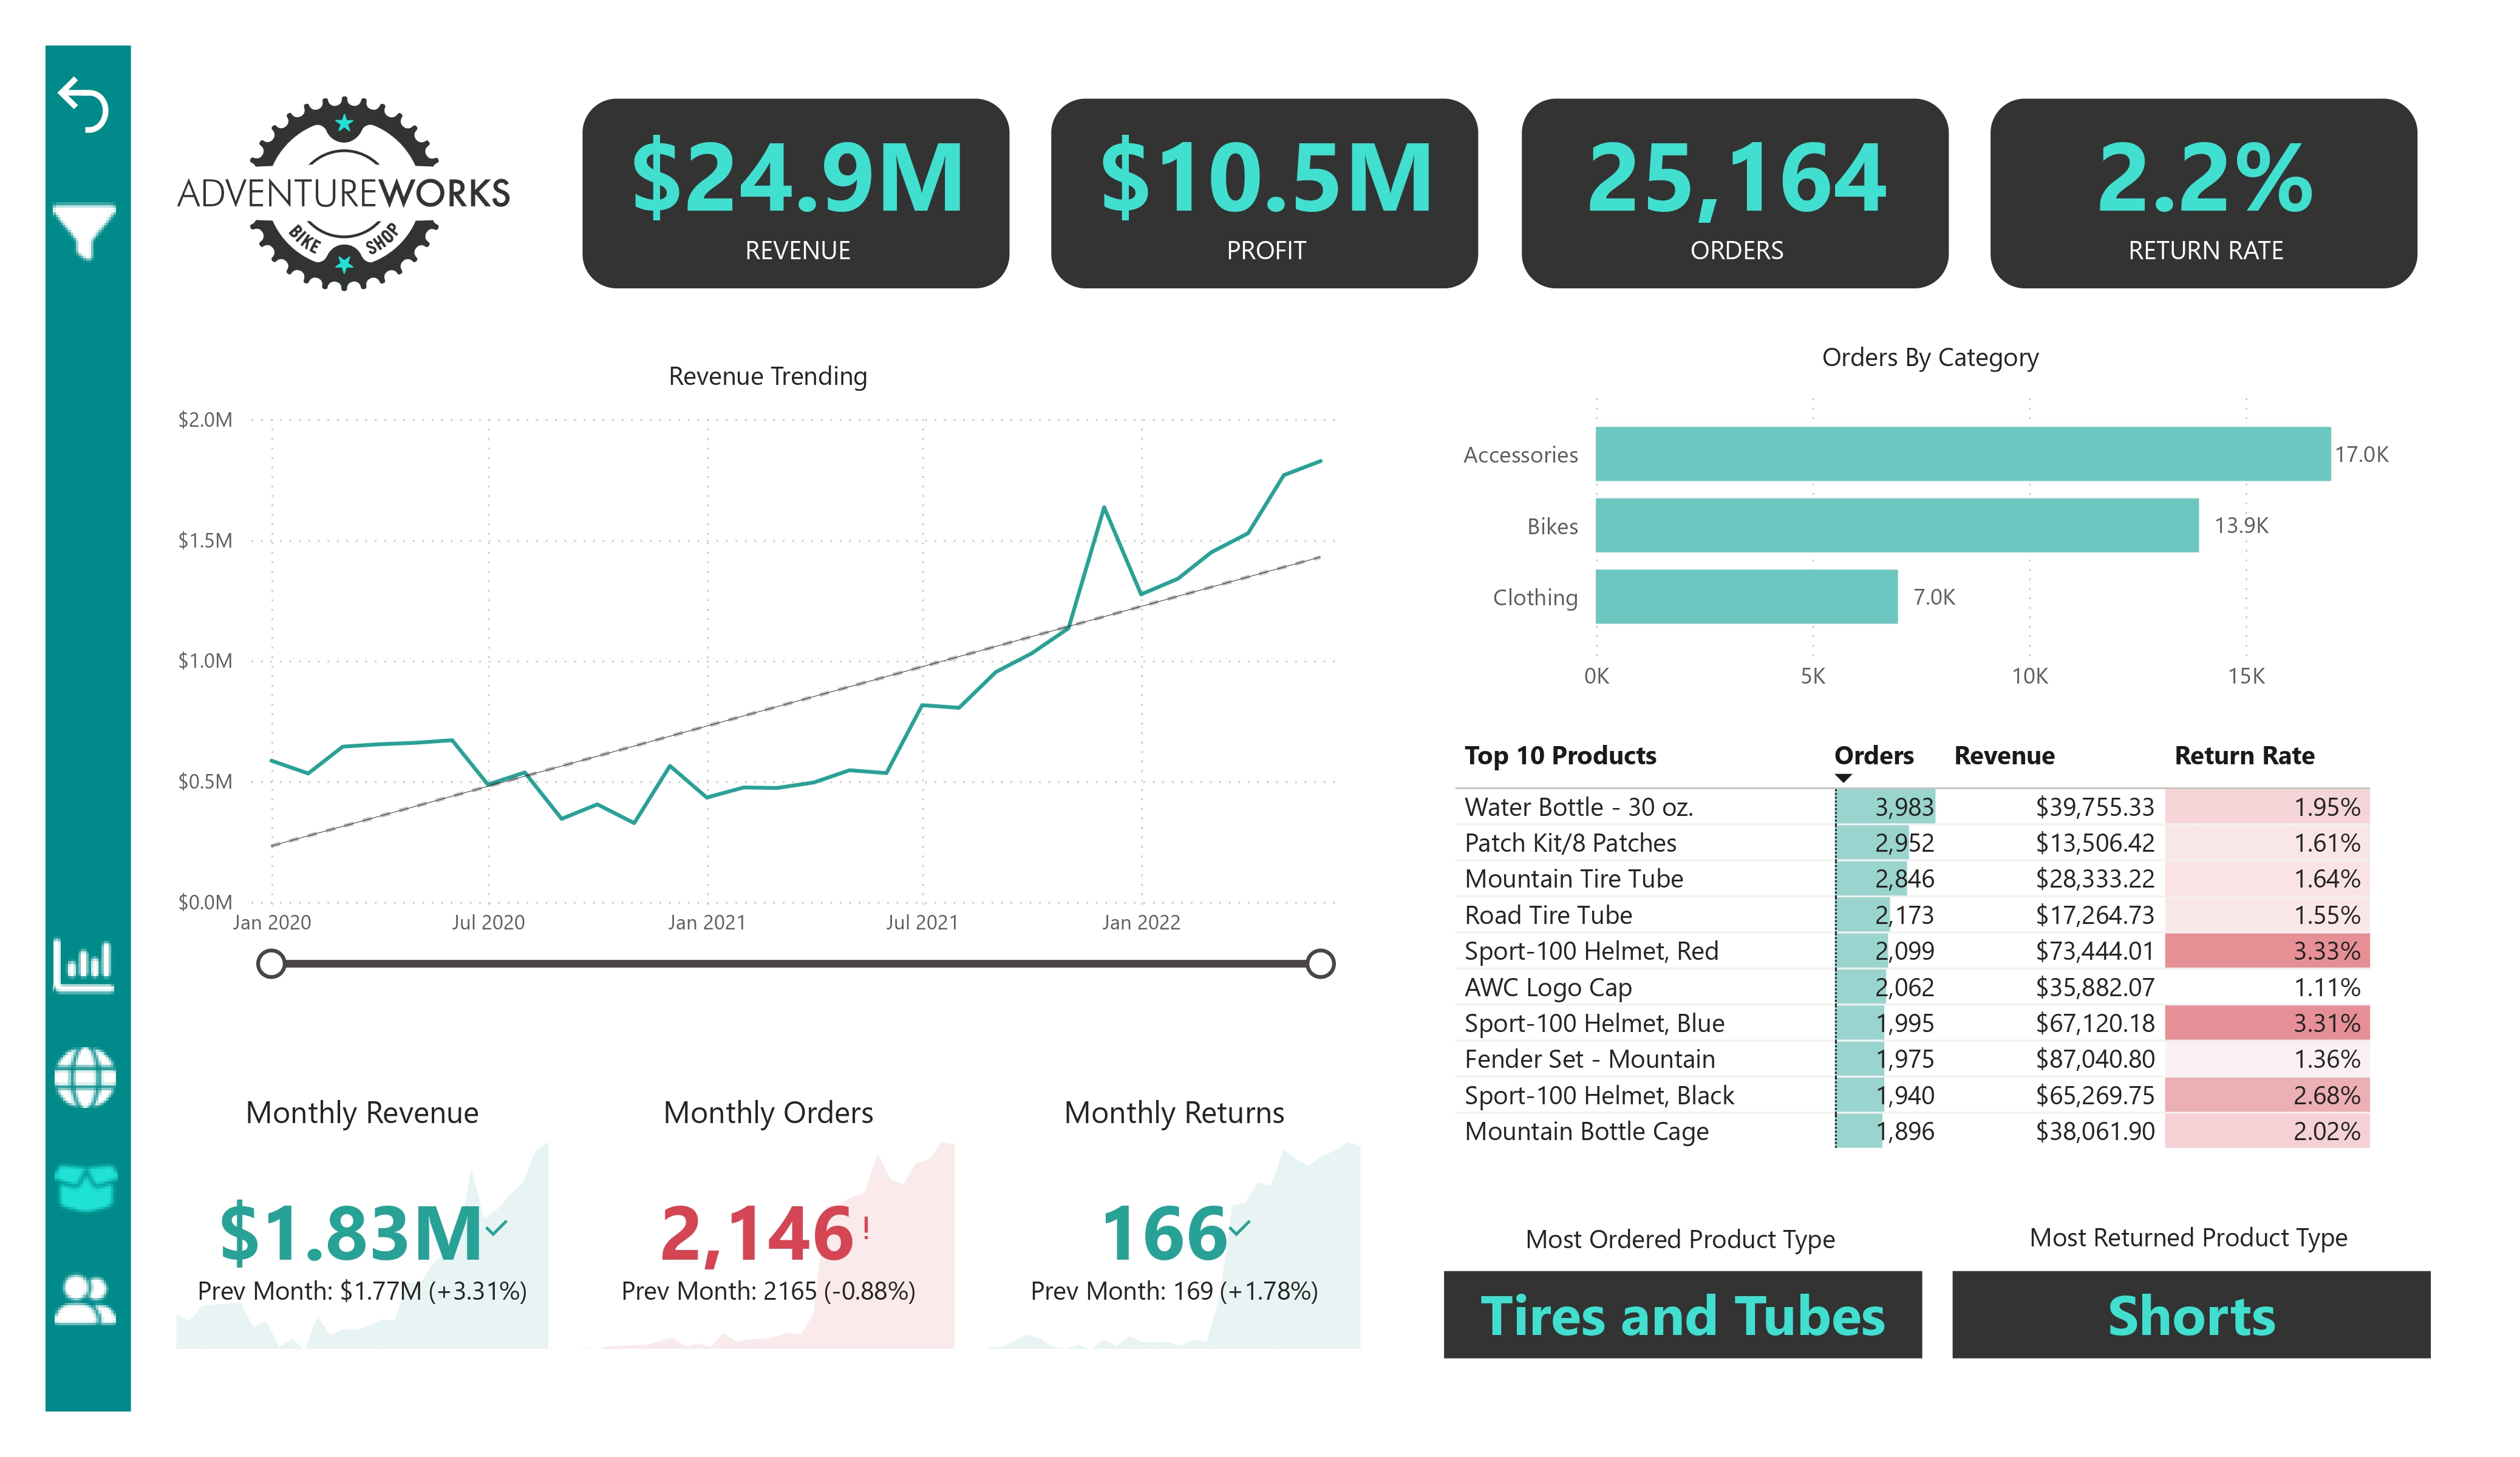

The page's visual inventory and layout, read from the dashboard file:
{"tool":"powerbi","page":{"name":"Overview","canvas":[1280,720],"ordinal":0},"visuals":[{"type":"image","title":"Logo Image","box":[44.7,10.5,225,134.2],"z":0},{"type":"group","id":"g1","title":"Retangle Cards","box":[282.9,21.1,226.3,107.9],"z":0,"group":"g3"},{"type":"shape","title":"Rectangle shape","box":[282.9,28.2,225,100],"z":0,"group":"g1"},{"type":"shape","title":"Rectangle shape","box":[530.3,28.2,225,100],"z":0,"group":"g2"},{"type":"shape","title":"Rectangle shape","box":[777.6,28.2,225,100],"z":0,"group":"g4"},{"type":"shape","title":"Rectangle shape","box":[1025,28.2,225,100],"z":0,"group":"g5"},{"type":"actionButton","box":[0,464.7,45.2,40.4],"z":0,"group":"g6"},{"type":"shape","box":[0,0,45,720.2],"z":1000},{"type":"card","fields":{"Values":["Measure Table.Total Revenue"]},"box":[284.1,21.1,225,107.1],"z":1000,"group":"g1"},{"type":"group","id":"g2","title":"Retangle Cards","box":[530.3,21.1,226.3,106.6],"z":1000,"group":"g3"},{"type":"card","fields":{"Values":["Measure Table.Total Profit"]},"box":[531.5,21.1,225,107.1],"z":1000,"group":"g2"},{"type":"card","fields":{"Values":["Measure Table.Total No: of Orders"]},"box":[778.8,21.1,225,107.1],"z":1000,"group":"g4"},{"type":"card","fields":{"Values":["Measure Table.Return Rate"]},"box":[1026.2,21.1,225,107.1],"z":1000,"group":"g5"},{"type":"actionButton","box":[1.2,523.4,45.2,40.4],"z":1000,"group":"g6"},{"type":"group","id":"g3","title":"KPI Cards Top Bar","box":[282.9,21.1,968.4,107.9],"z":2000},{"type":"group","id":"g4","title":"Retangle Cards","box":[777.6,21.1,226.3,107.9],"z":2000,"group":"g3"},{"type":"actionButton","box":[1.2,582.1,45.2,40.4],"z":2000,"group":"g6"},{"type":"group","id":"g5","title":"Retangle Cards","box":[1025,21.1,226.3,106.6],"z":3000,"group":"g3"},{"type":"lineChart","title":"Revenue Trending","fields":{"Y":["Measure Table.Total Revenue"],"Category":["Calendar Lookup.Year","Calendar Lookup.Start of Quarter","Calendar Lookup.Start of Month"]},"box":[63.6,165.1,634.7,330.2],"z":3000},{"type":"actionButton","box":[1.2,640.5,45.2,40.4],"z":3000,"group":"g6"},{"type":"kpi","title":"Monthly Revenue","fields":{"Indicator":["Measure Table.Total Revenue"],"TrendLine":["Calendar Lookup.Start of Month"],"Goal":["Measure Table.Previous Month Revenue"]},"box":[63.6,551.5,206.7,140.6],"z":4000},{"type":"kpi","title":"Monthly Orders","fields":{"TrendLine":["Calendar Lookup.Start of Month"],"Indicator":["Measure Table.Total No: of Orders"],"Goal":["Measure Table.Previous Month Orders"]},"box":[277.6,551.5,206.7,140.6],"z":5000},{"type":"kpi","title":"Monthly Returns","fields":{"TrendLine":["Calendar Lookup.Start of Month"],"Goal":["Measure Table.Previous Month Returns"],"Indicator":["Measure Table.Total No: of Returns"]},"box":[491.6,551.5,206.7,140.6],"z":6000},{"type":"barChart","title":"Orders By Category","fields":{"Category":["Product Categories Lookup.CategoryName"],"Y":["Measure Table.Total No: of Orders"]},"box":[737.4,155.3,512.4,194.4],"z":7000},{"type":"tableEx","fields":{"Values":["Product Lookup.ProductName","Measure Table.Total No: of Orders","Measure Table.Total Revenue","Measure Table.Return Rate"]},"box":[737.4,359.5,512.4,226.2],"z":8000},{"type":"card","fields":{"Values":["Min(Product Subcategories Lookup.SubcategoryName)"]},"box":[737.4,645.7,251.9,46.5],"z":9000},{"type":"textbox","box":[766.7,615.1,189.5,30.6],"z":10000},{"type":"card","fields":{"Values":["Min(Product Subcategories Lookup.SubcategoryName)"]},"box":[1005.2,645.7,251.9,46.5],"z":11000},{"type":"textbox","box":[1026,613.9,206.7,30.6],"z":12000},{"type":"actionButton","box":[0,11,45.2,40.4],"z":13000},{"type":"group","id":"g6","title":"navigation buttons","box":[0,464.7,46.5,216.2],"z":14000},{"type":"actionButton","box":[0,78.3,46.5,40.4],"z":15000}]}

Visuals, with their boxes on the page's 1280x720 design canvas (x1, y1, x2, y2). These are canvas units, not pixel positions in the 2520x1457 screenshot, which may show the page scaled, cropped or inside an application window:
"Logo Image" image: <box>45,10,270,145</box>
"Retangle Cards" group: <box>283,21,509,129</box>
"Rectangle shape" shape: <box>283,28,508,128</box>
"Rectangle shape" shape: <box>530,28,755,128</box>
"Rectangle shape" shape: <box>778,28,1003,128</box>
"Rectangle shape" shape: <box>1025,28,1250,128</box>
actionButton: <box>0,465,45,505</box>
shape: <box>0,0,45,720</box>
card - Measure Table.Total Revenue: <box>284,21,509,128</box>
"Retangle Cards" group: <box>530,21,757,128</box>
card - Measure Table.Total Profit: <box>532,21,756,128</box>
card - Measure Table.Total No: of Orders: <box>779,21,1004,128</box>
card - Measure Table.Return Rate: <box>1026,21,1251,128</box>
actionButton: <box>1,523,46,564</box>
"KPI Cards Top Bar" group: <box>283,21,1251,129</box>
"Retangle Cards" group: <box>778,21,1004,129</box>
actionButton: <box>1,582,46,622</box>
"Retangle Cards" group: <box>1025,21,1251,128</box>
"Revenue Trending" lineChart: <box>64,165,698,495</box>
actionButton: <box>1,640,46,681</box>
"Monthly Revenue" kpi: <box>64,552,270,692</box>
"Monthly Orders" kpi: <box>278,552,484,692</box>
"Monthly Returns" kpi: <box>492,552,698,692</box>
"Orders By Category" barChart: <box>737,155,1250,350</box>
tableEx - Product Lookup.ProductName x Measure Table.Total No: of Orders: <box>737,360,1250,586</box>
card - Min(Product Subcategories Lookup.SubcategoryName): <box>737,646,989,692</box>
textbox: <box>767,615,956,646</box>
card - Min(Product Subcategories Lookup.SubcategoryName): <box>1005,646,1257,692</box>
textbox: <box>1026,614,1233,644</box>
actionButton: <box>0,11,45,51</box>
"navigation buttons" group: <box>0,465,46,681</box>
actionButton: <box>0,78,46,119</box>
